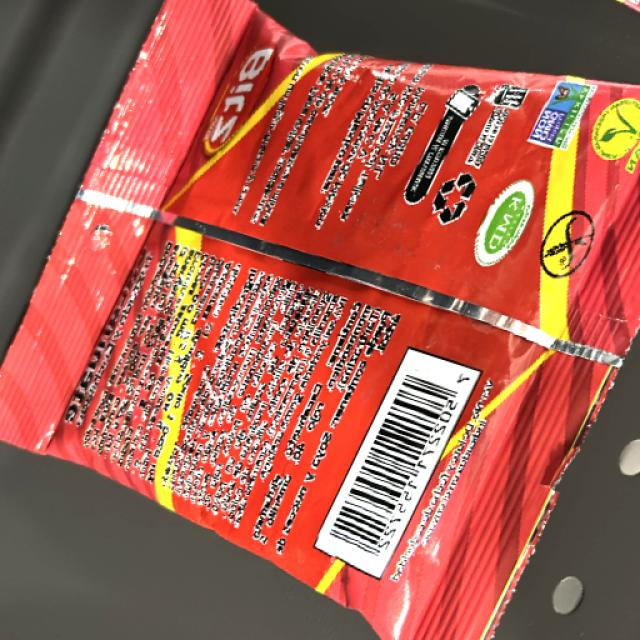productoAtras: (116, 54, 580, 558)
